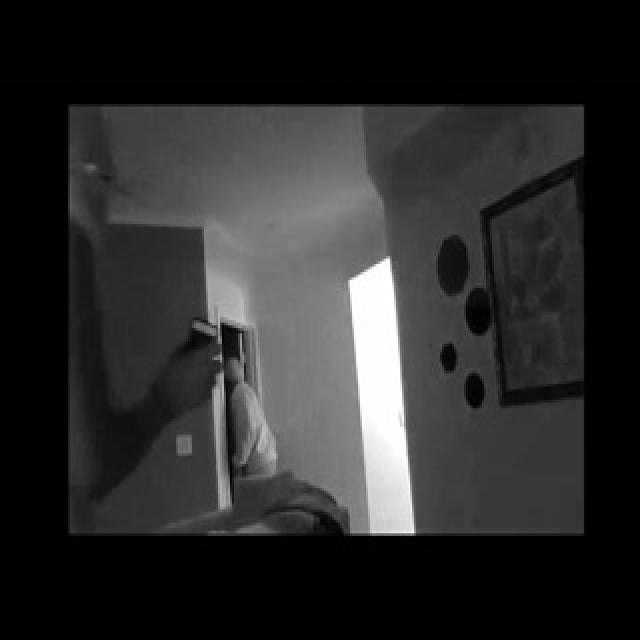thief: (217, 352, 273, 423)
